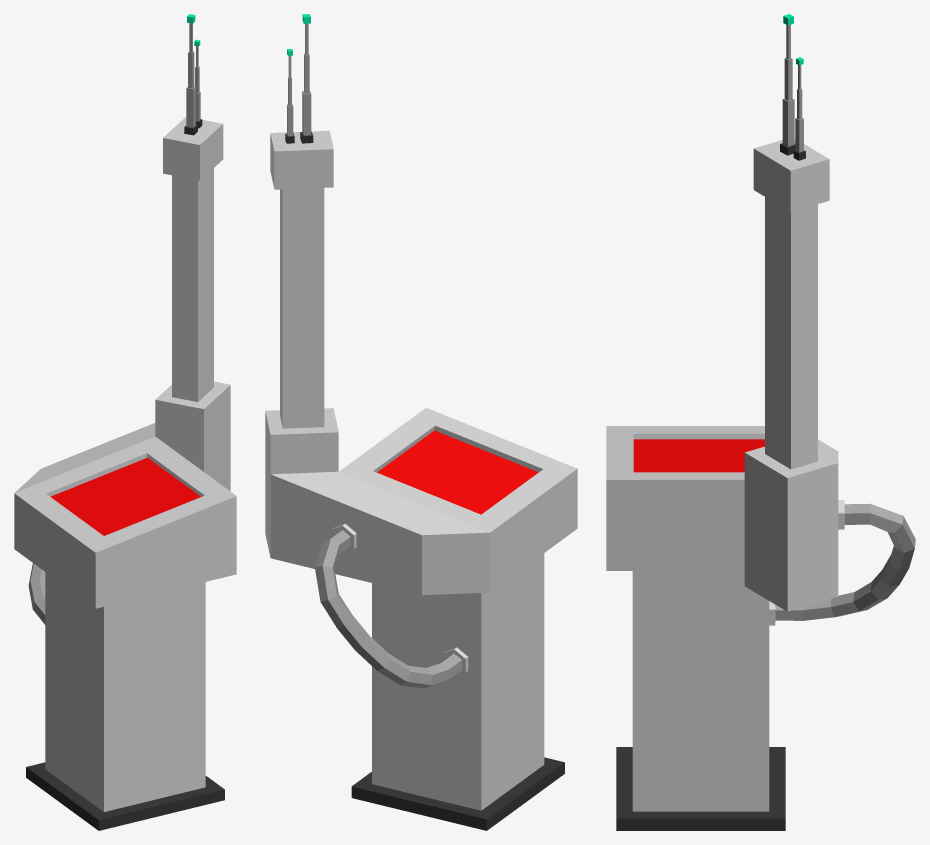
The model's file is Unlocks_Station.fbx.
3 renders of one model, left to right at view 1: azimuth 30°, elevation 25°; view 2: azimuth 150°, elevation 25°; view 3: azimuth 270°, elevation 25°, orthographic. The views are drawn at different scales.
Visible parts, largest first — view 1: Unlocks_Station, Unlocks_Station_Screen, Cable.017; view 2: Unlocks_Station, Unlocks_Station_Screen, Cable.017; view 3: Unlocks_Station, Cable.017, Unlocks_Station_Screen.
Part boxes in pixels (x1,y1,x2,y2): Unlocks_Station: (14,14,236,830); Unlocks_Station_Screen: (50,457,200,535); Cable.017: (28,563,45,624); Unlocks_Station: (265,14,577,830); Unlocks_Station_Screen: (377,430,538,514); Cable.017: (315,530,462,688); Unlocks_Station: (606,14,838,830); Cable.017: (775,503,915,620); Unlocks_Station_Screen: (633,439,764,472).
Bounding box in the file's own units: 208 × 672 × 225.
